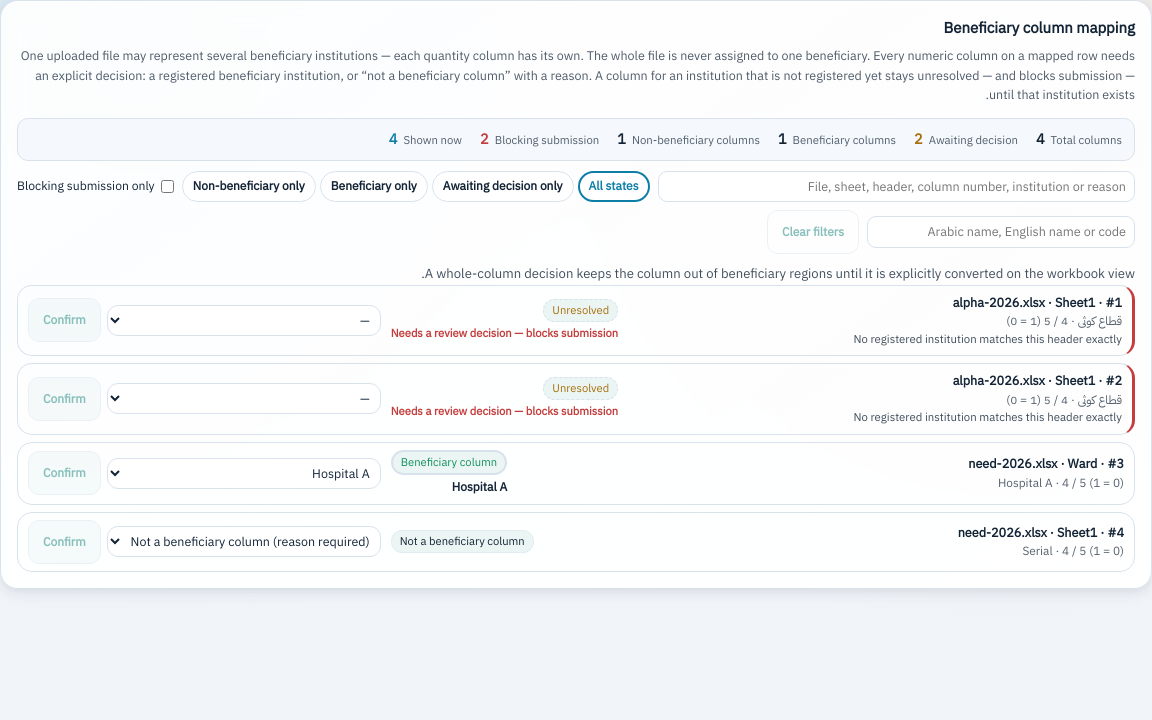
Test case: UX-2B — filtering is client-only › restores every row when the filters are cleared
Step 1. Type "alpha-2026" into the search field named "Filter columns" → point(896, 186), box [658,171,1135,202]
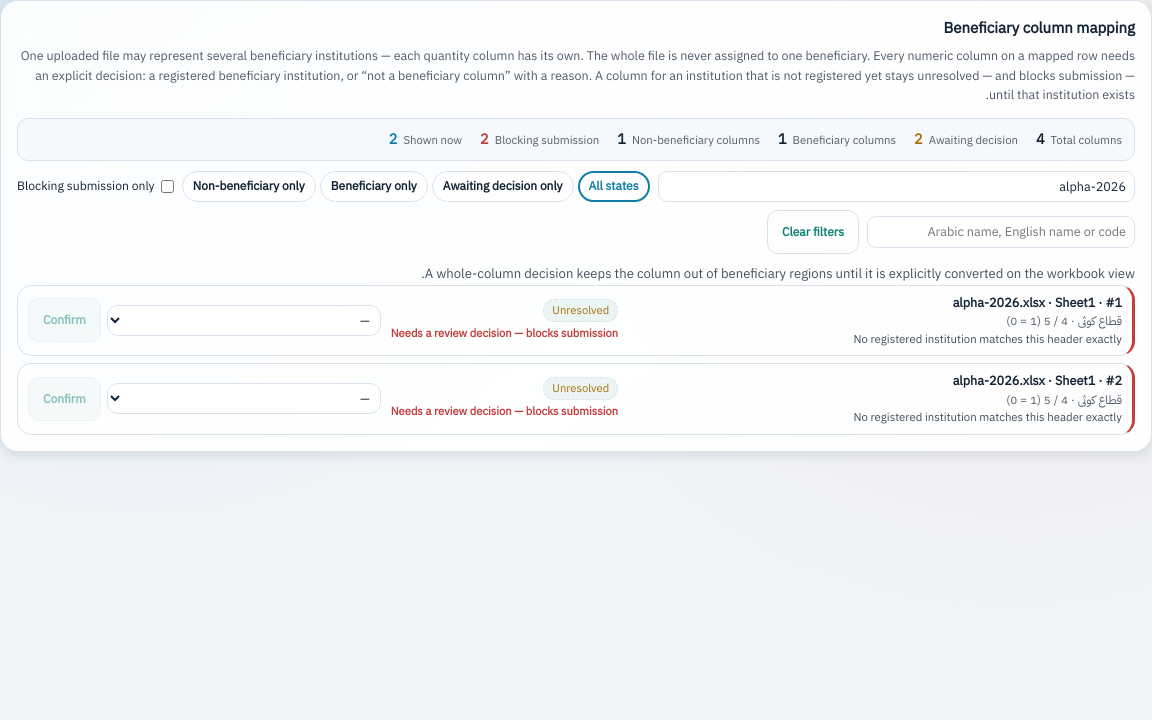
Step 2. Click the button "Awaiting decision only" → point(503, 186), box [432,171,574,202]
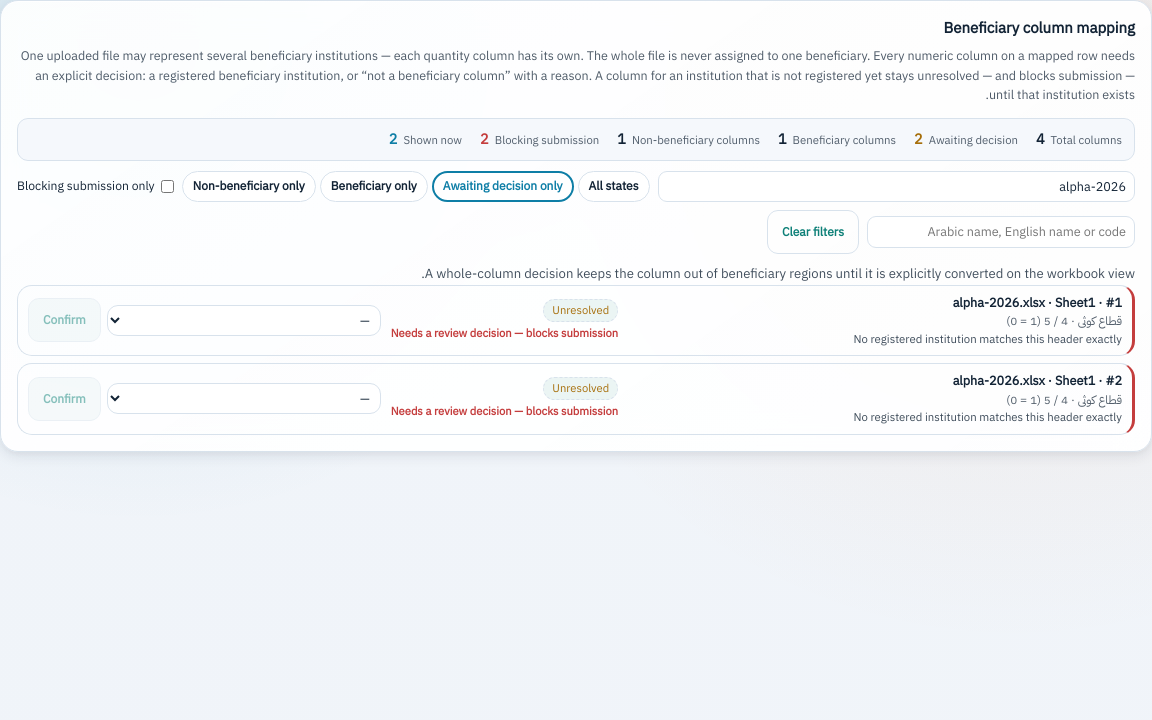
Step 3. Click the button "Clear filters" → point(813, 232), box [767,210,859,254]
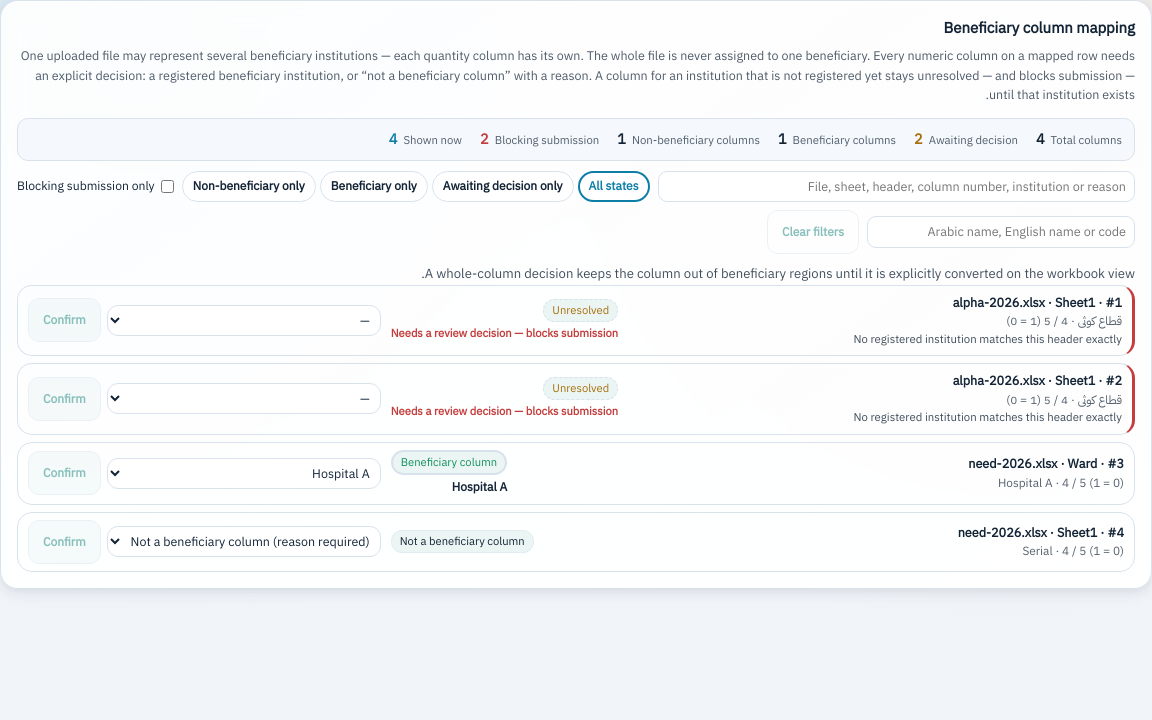
Result: the search field named "Filter columns" is empty at [658,171,1135,202]
